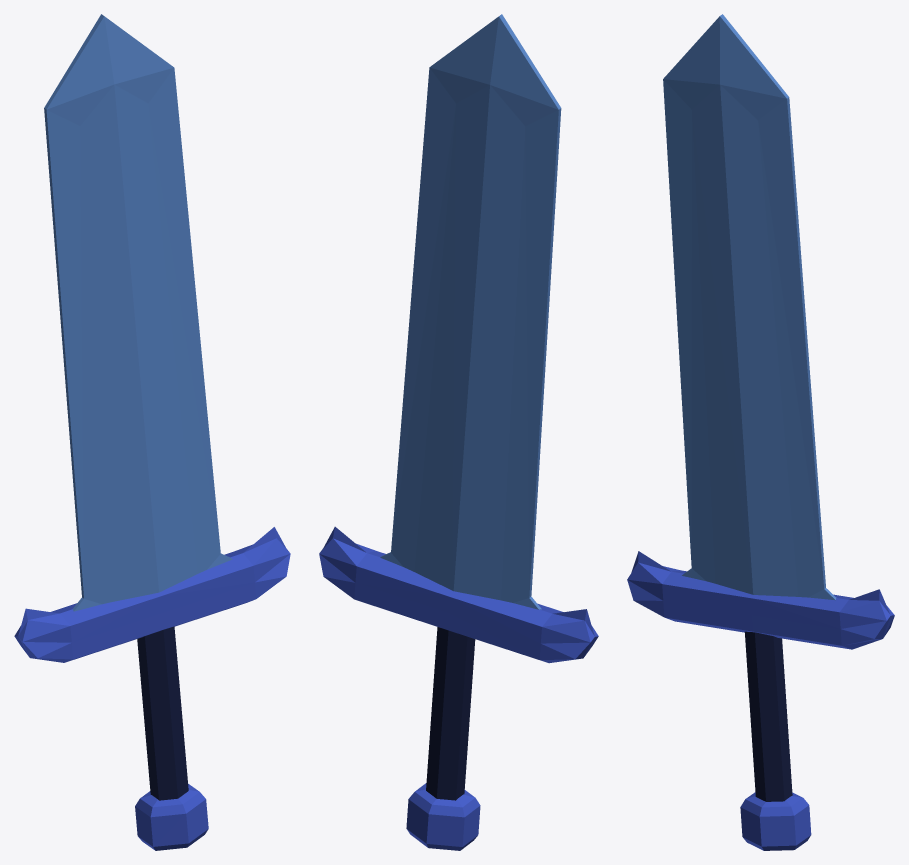
Rendered from rune_weapon.glb.
The picture shows the model from 3 angles, left to right: view 1: azimuth 30°, elevation 25°; view 2: azimuth 150°, elevation 25°; view 3: azimuth 330°, elevation 25°; orthographic projection. The views are drawn at different scales.
Parts seen in each view (by area): view 1: rune_weapon; view 2: rune_weapon; view 3: rune_weapon.
Boxes of the visible parts, x1,y1,x2,y2 form: rune_weapon: (14,14,290,850); rune_weapon: (319,14,598,850); rune_weapon: (627,14,894,850).
Size of the model in its own units: 0.3354 by 1 by 0.0683.
